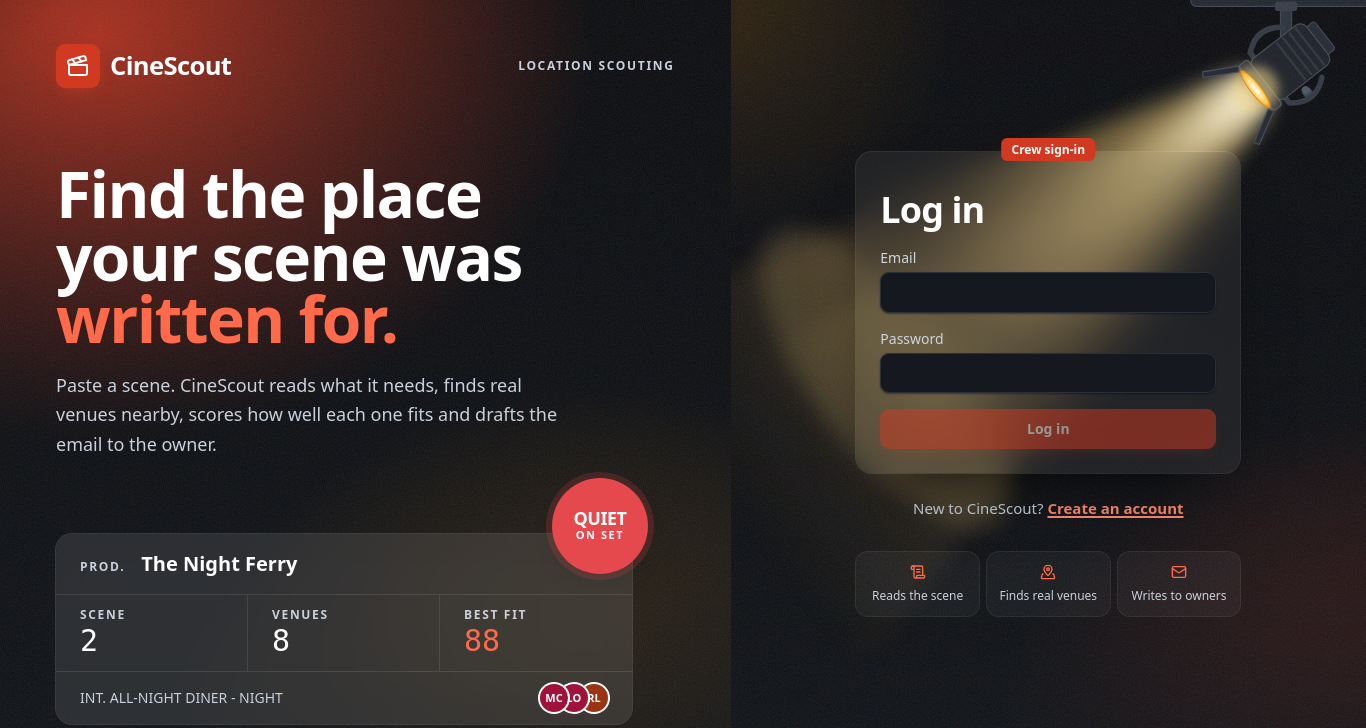
Scenario: a scene's locations › can be scouted: the run is summarised and the new venues and parsed scene appear
This screenshot has width=1366, height=728.
Type "ada@example.com" into the field labelled "Email".
click(1048, 293); type("ada@example.com")  # box [880,272,1216,313]
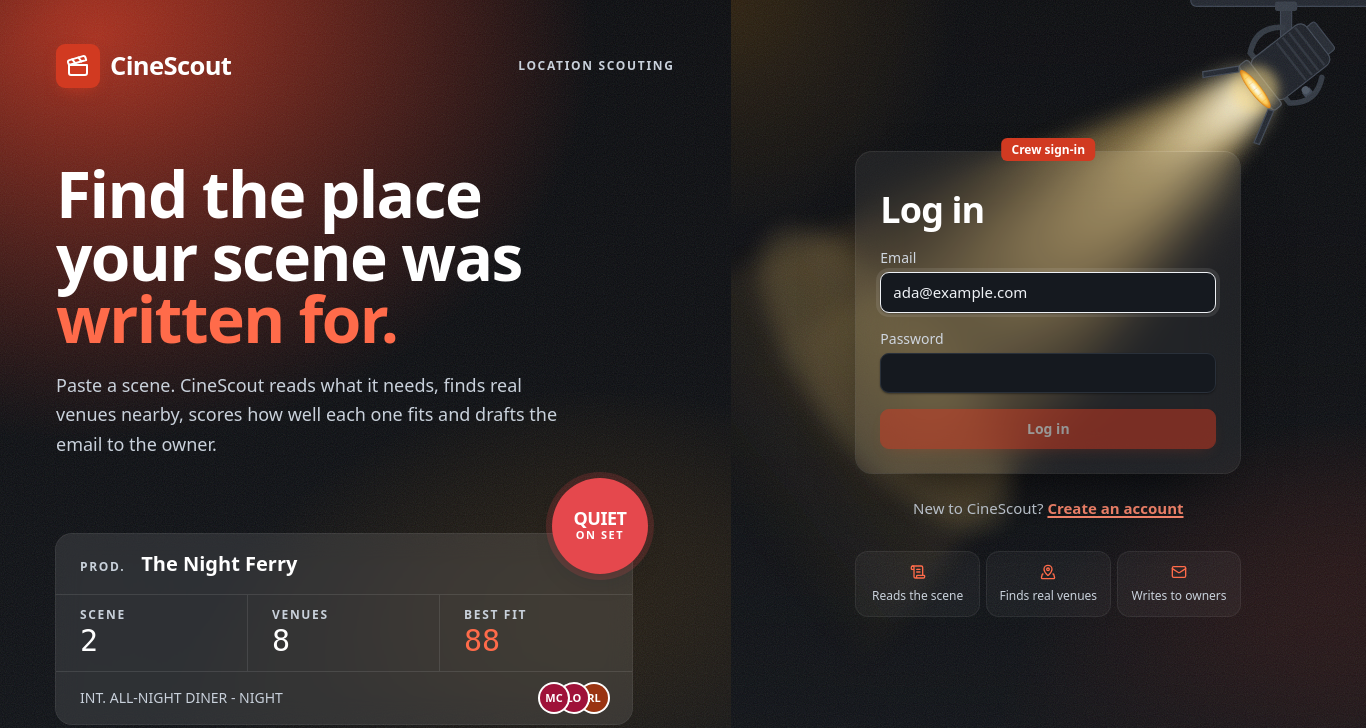
Type "a-long-password" into the password field labelled "Password".
click(1048, 373); type("a-long-password")  # box [880,353,1216,393]
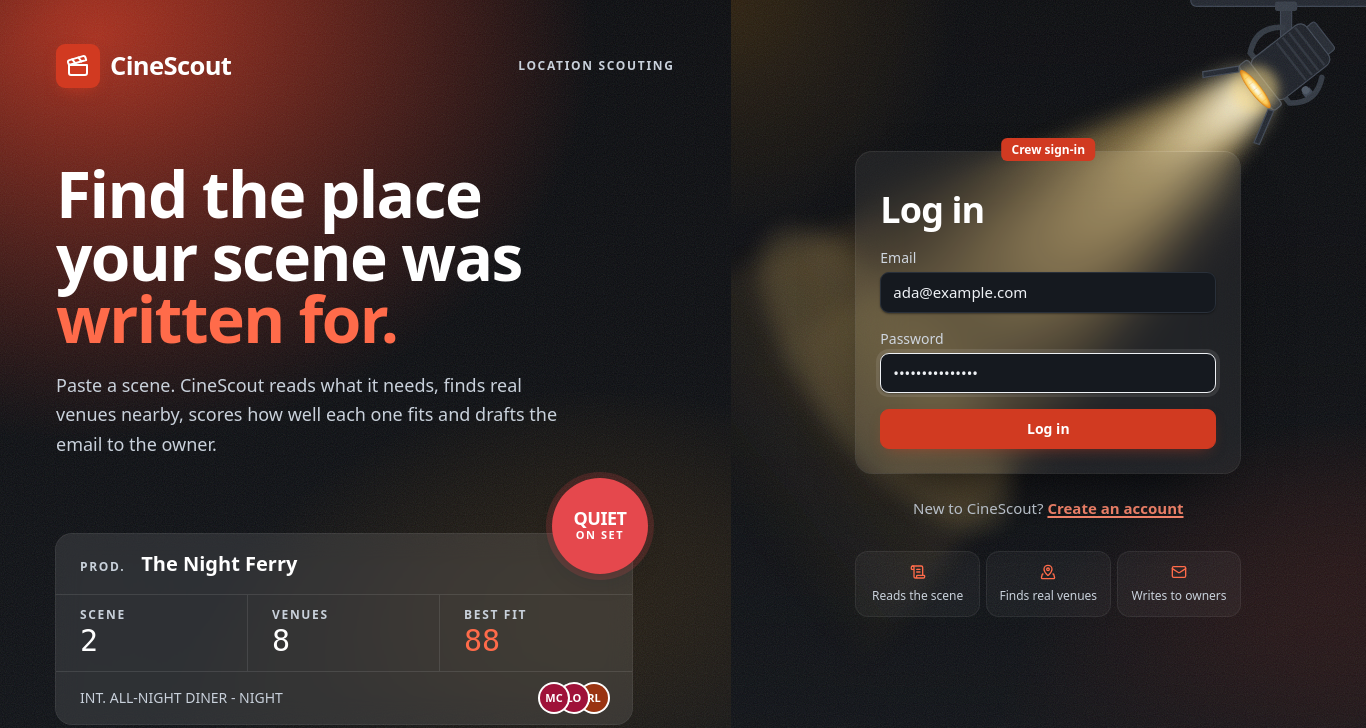
Click the button "Log in".
click(1048, 429)  # box [880,409,1216,449]
(page scrolled)
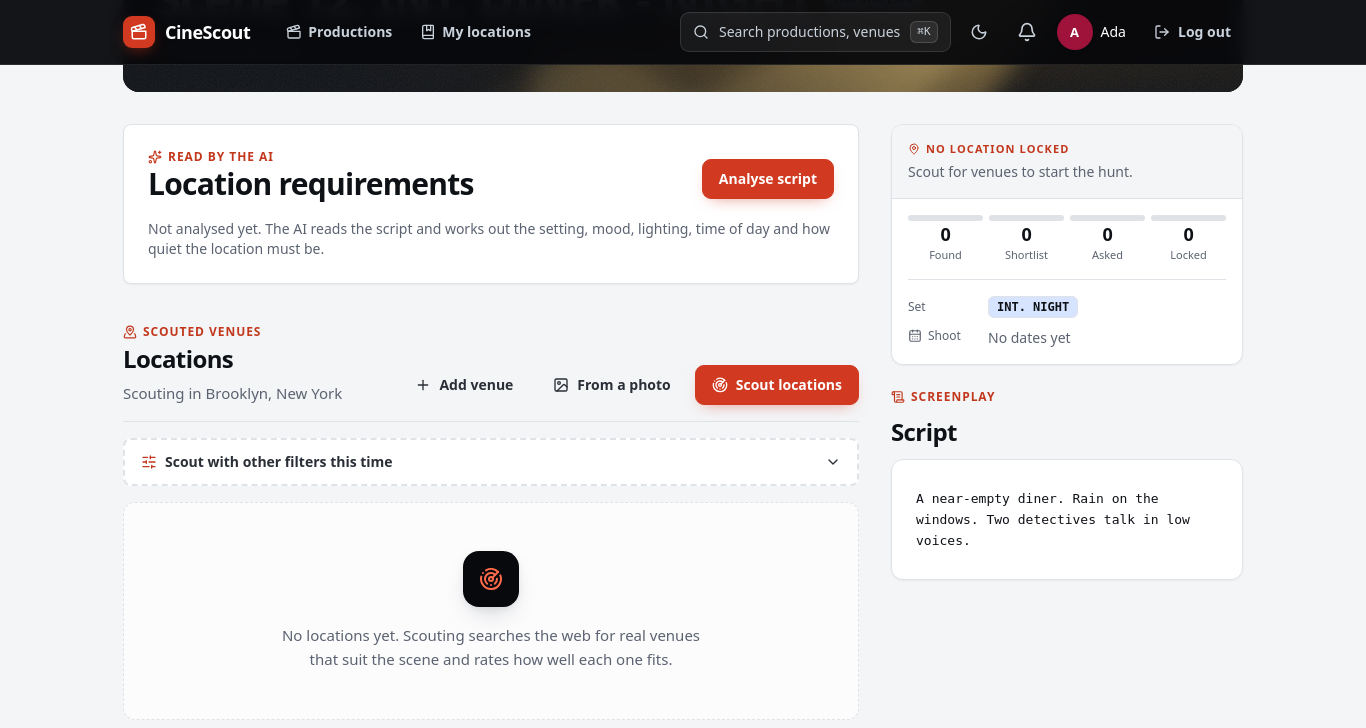
Result: the text "No locations yet" is shown at [282,624,700,669]
Result: the text "Scouting in Brooklyn, New York" is shown at [123,378,342,404]
Click the button "Scout locations".
click(777, 384)  # box [695,364,859,404]
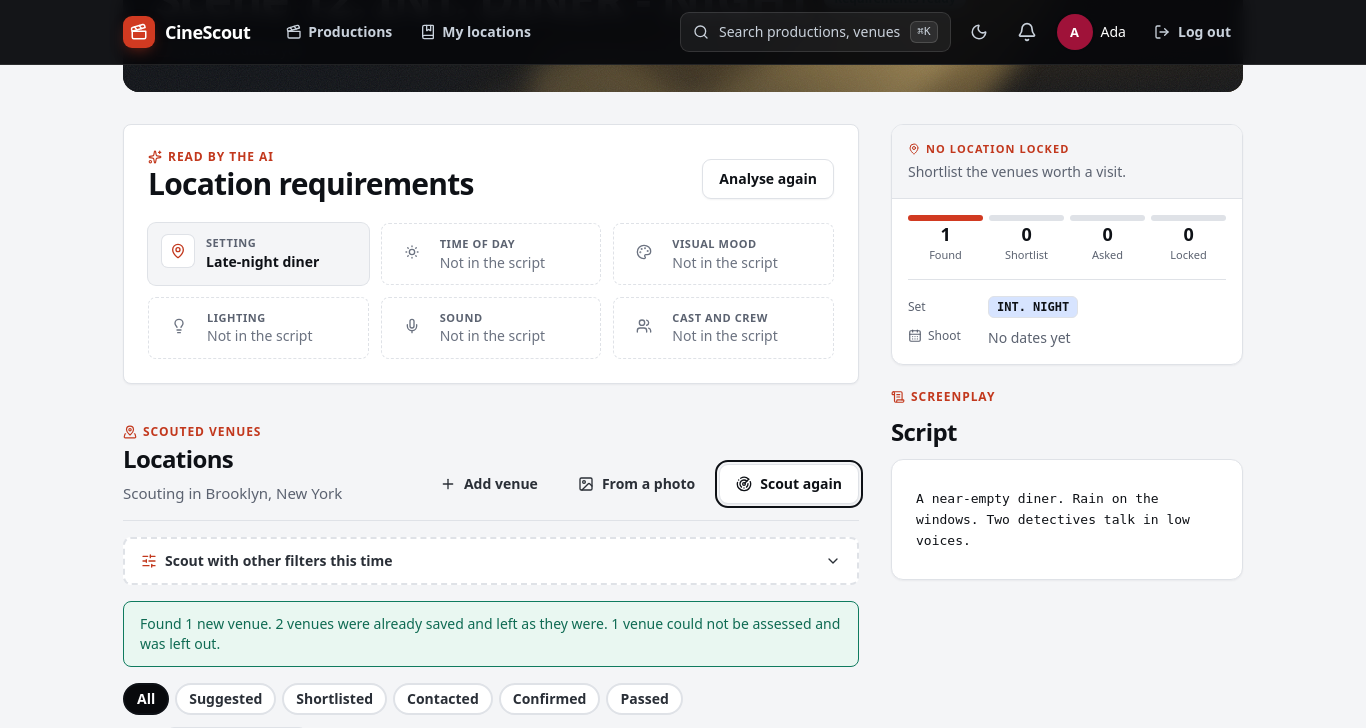
Result: the text "Found 1 new venue. 2 venues were already saved and left as they were. 1 venue could not be assessed and was left out." is shown at [140,614,840,653]
Result: the button "Scout again" is shown at [719,464,859,504]
